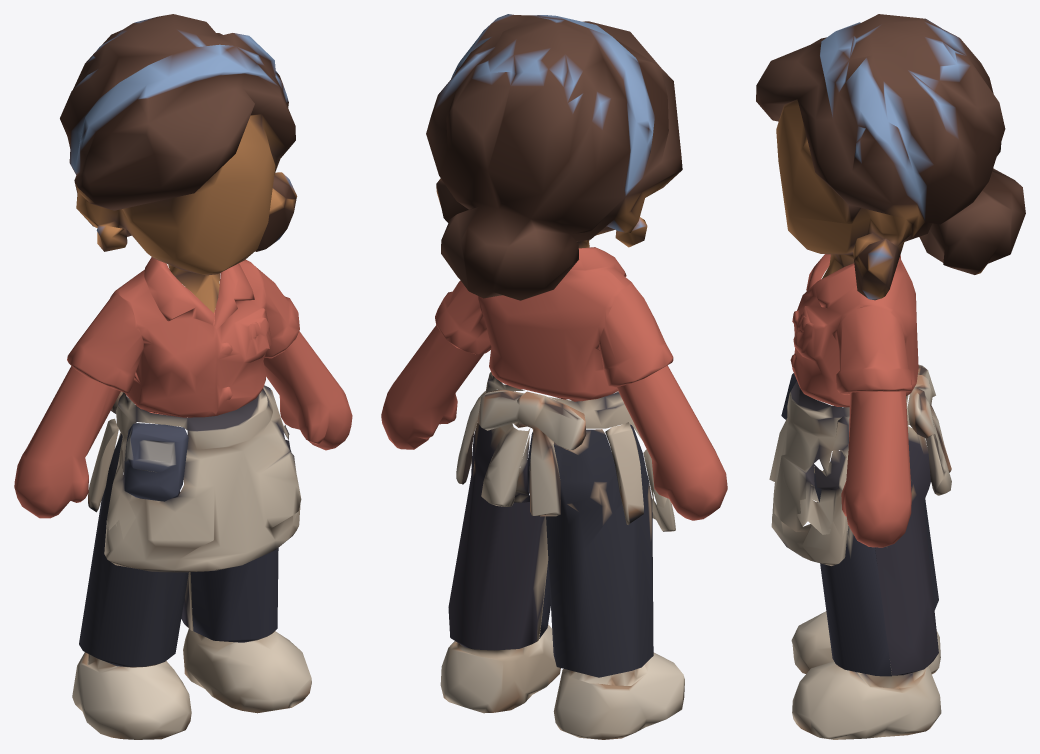
The picture shows the model from 3 angles, left to right: view 1: azimuth 30°, elevation 25°; view 2: azimuth 150°, elevation 25°; view 3: azimuth 270°, elevation 25°; orthographic projection. The views are drawn at different scales.
Visible parts, largest first — view 1: hair, bottom, head, top, hand_r, shoe_r, sleeve_r, hand_l; view 2: hair, bottom, head, top, hand_r, shoe_r, hand_l, sleeve_r, sleeve_l; view 3: hair, bottom, head, top, hand_l, sleeve_l, shoe_r.
Boxes of the visible parts, x1,y1,x2,y2 form: hair: [60, 14, 297, 312]; bottom: [79, 434, 311, 713]; head: [67, 257, 299, 417]; top: [104, 385, 301, 572]; hand_r: [14, 366, 120, 518]; shoe_r: [72, 652, 191, 739]; sleeve_r: [88, 418, 188, 538]; hand_l: [263, 331, 352, 450]; hair: [426, 14, 682, 300]; bottom: [440, 423, 653, 713]; head: [435, 247, 673, 401]; top: [477, 372, 675, 531]; hand_r: [616, 365, 727, 520]; shoe_r: [553, 652, 684, 739]; hand_l: [381, 325, 483, 449]; sleeve_r: [605, 422, 670, 524]; sleeve_l: [456, 391, 485, 484]; hair: [756, 14, 1025, 300]; bottom: [792, 426, 941, 739]; head: [790, 254, 918, 407]; top: [769, 364, 951, 565]; hand_l: [841, 391, 911, 547]; sleeve_l: [797, 450, 848, 539]; shoe_r: [791, 611, 940, 674].
Bounding box in the file's own units: 0.533 × 1.03 × 0.3773.
